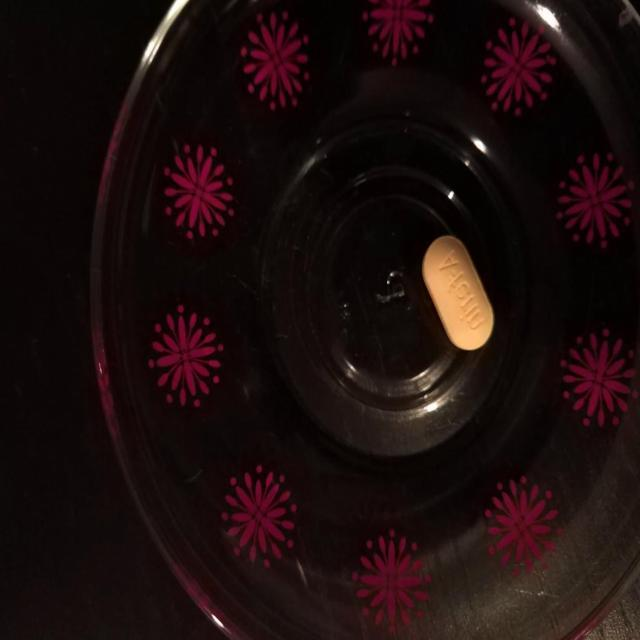pill: (420, 236, 498, 354)
